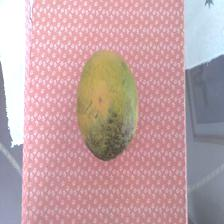Orange Rotten: (70, 42, 142, 163)
